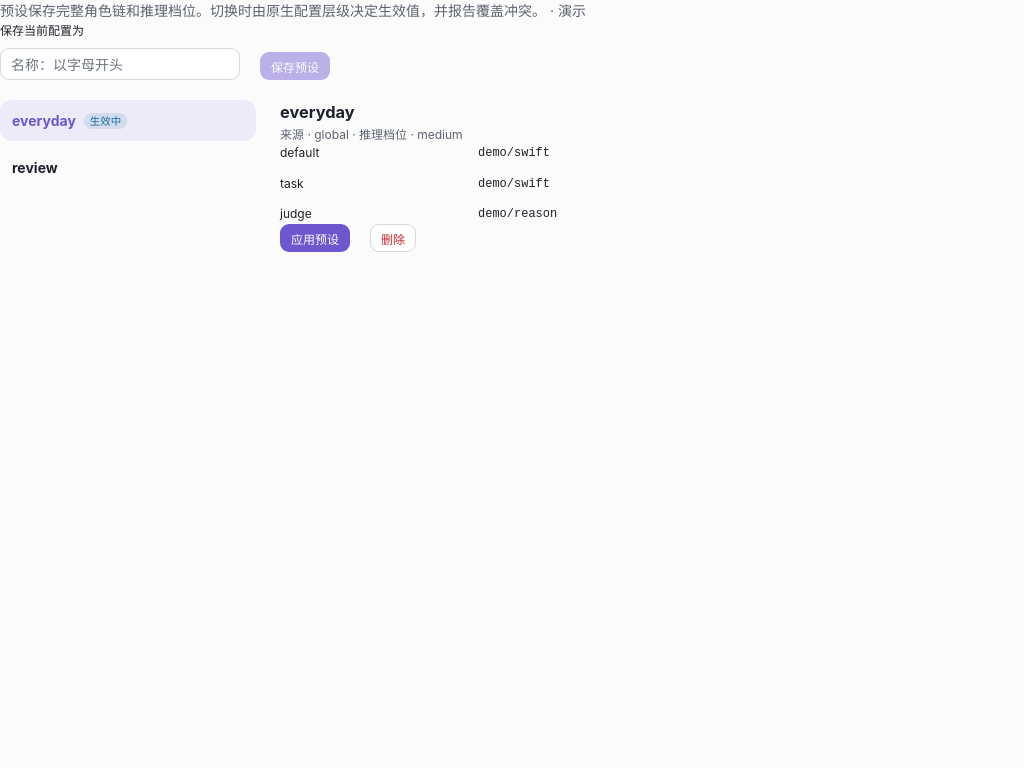
Test case: keeps preset writes in preview local and requires confirmation before replacing roles
Click the button "review". click: (128, 168)
box: [0,147,256,188]
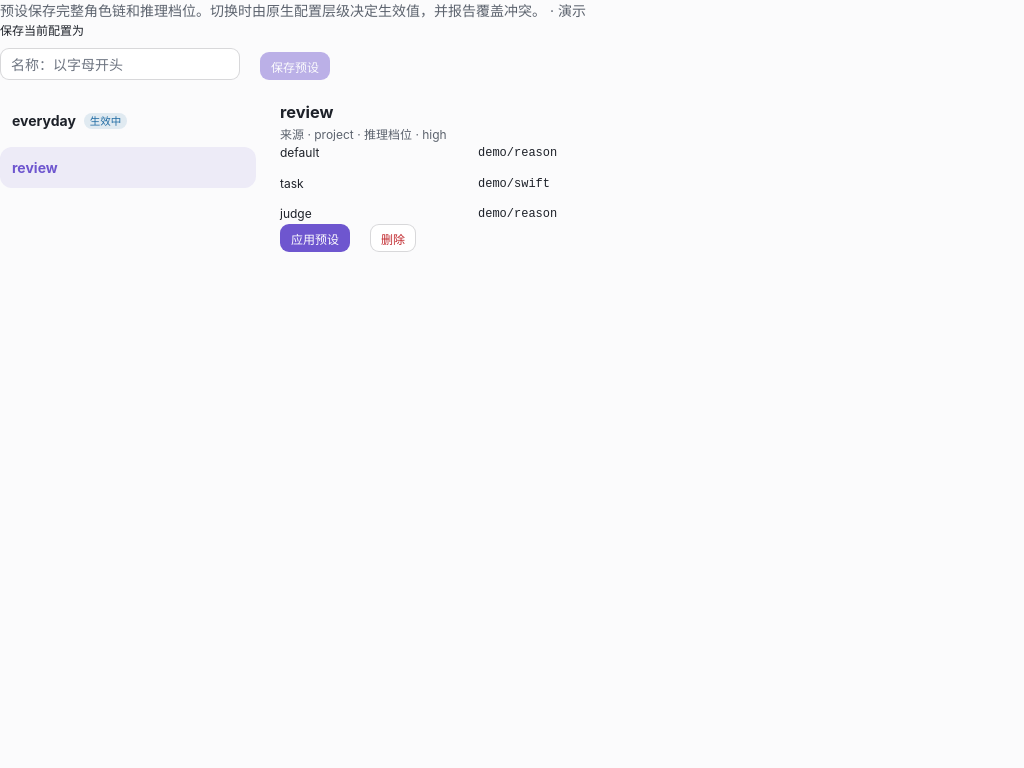
Click the button "应用预设". click: (315, 238)
box: [280,224,350,252]
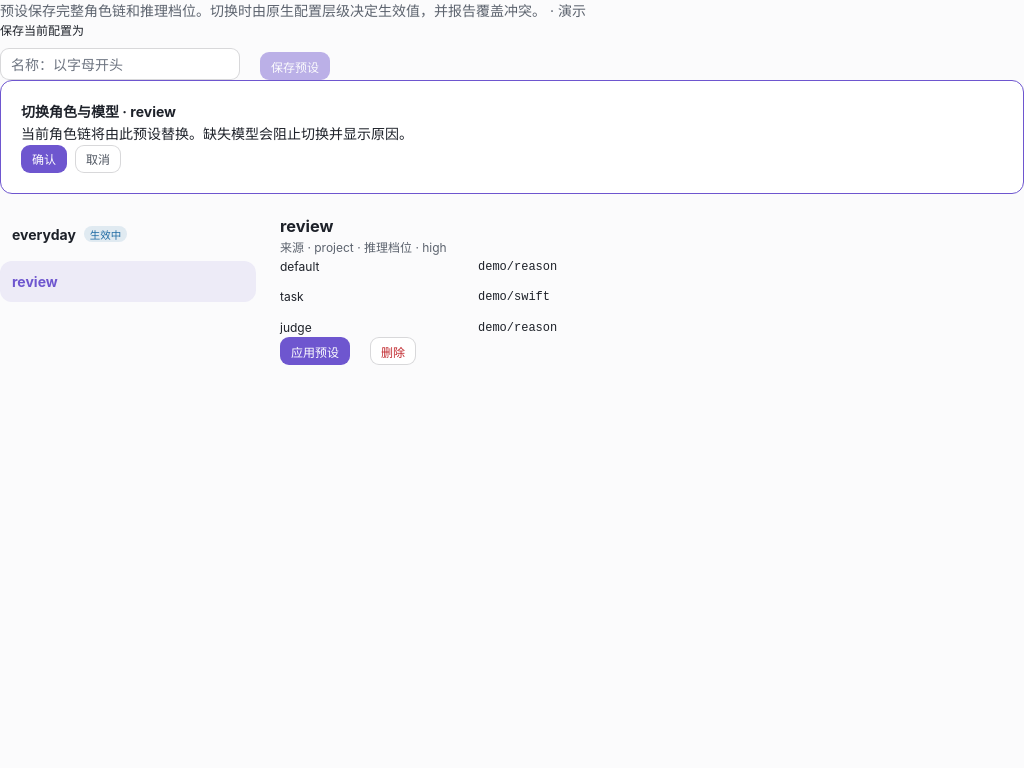
Result: the dialog named "确认预设操作" is shown at [0,80,1023,194]
Click the button "确认". click: (44, 159)
box: [21,145,67,173]
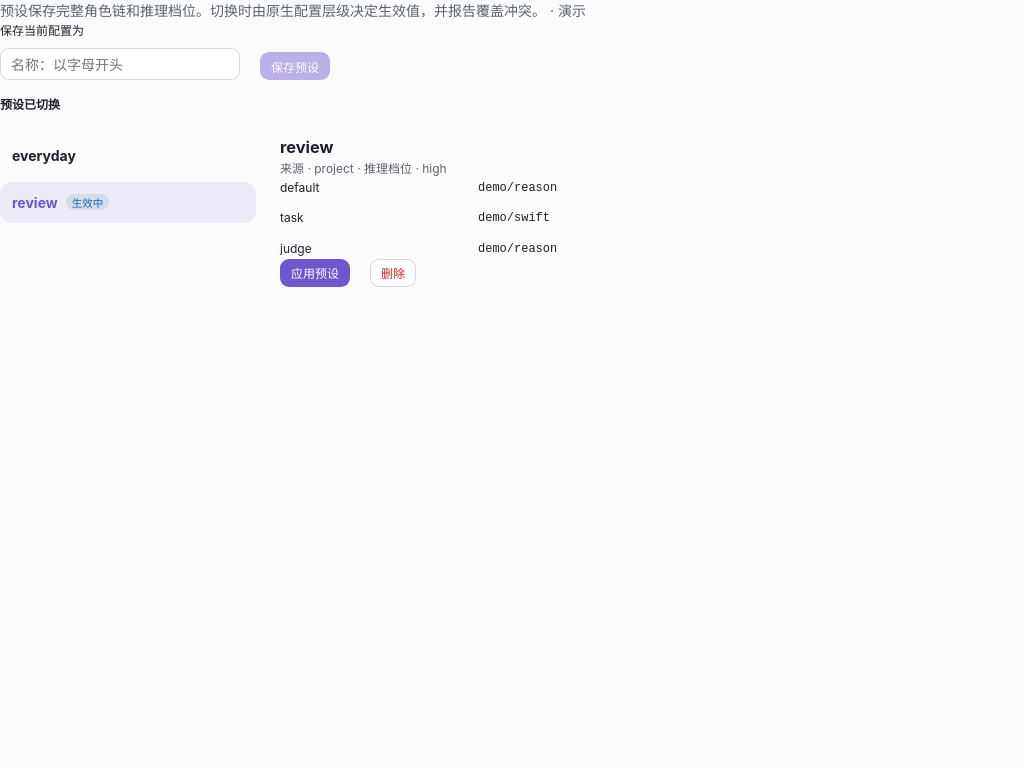
Result: the button "review 生效中" is shown at [0,182,256,223]
